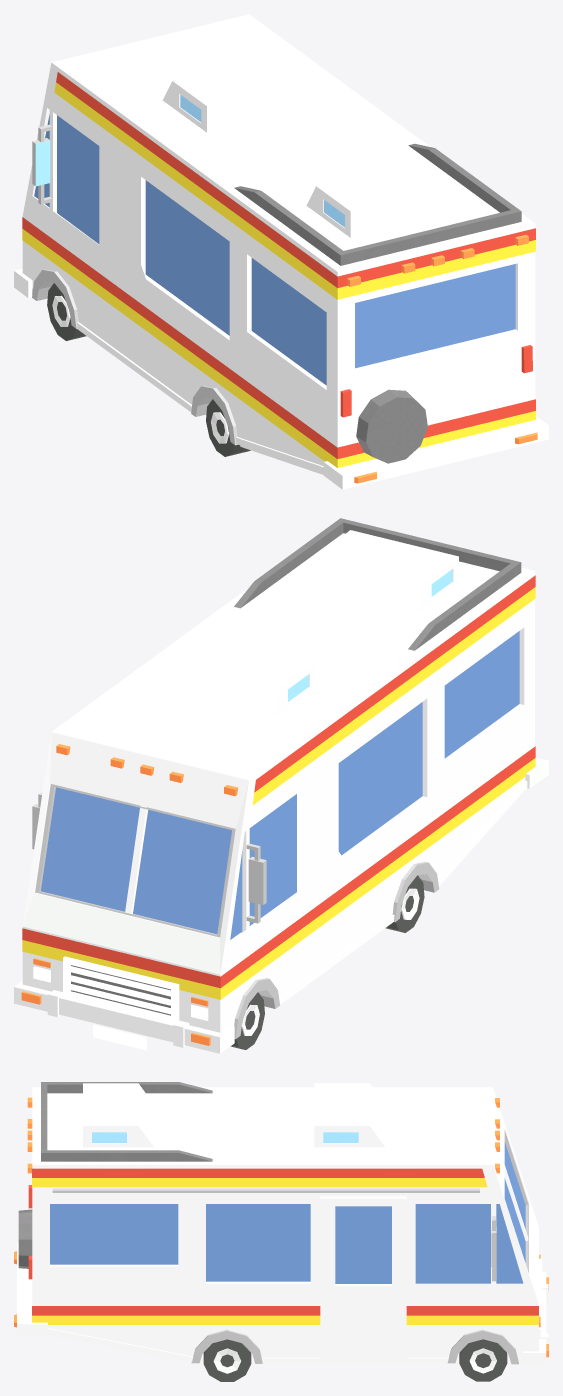
File: transport_bus.005.glb
3 views of the same model, one above another, from view 1: azimuth 30°, elevation 25°; view 2: azimuth 150°, elevation 25°; view 3: azimuth 270°, elevation 25° (orthographic). The views are drawn at different scales.
Parts seen in each view (by area): view 1: transport_bus.005(Clone); view 2: transport_bus.005(Clone); view 3: transport_bus.005(Clone).
Part boxes in pixels (x1=…): transport_bus.005(Clone): x1=14, y1=14, x2=548, y2=489; transport_bus.005(Clone): x1=14, y1=518, x2=548, y2=1053; transport_bus.005(Clone): x1=14, y1=1082, x2=548, y2=1381.
Size of the model in its own units: 2.02 by 2.5 by 5.03.
1 material, 1 textured.
